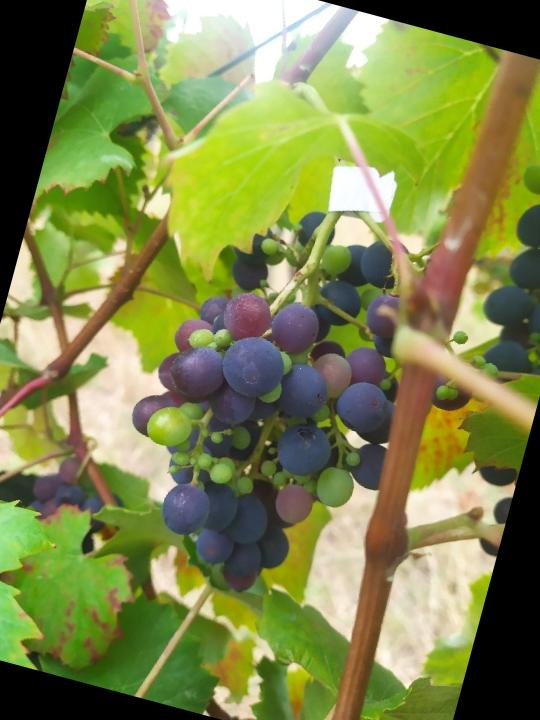grape: (91, 175, 445, 624)
